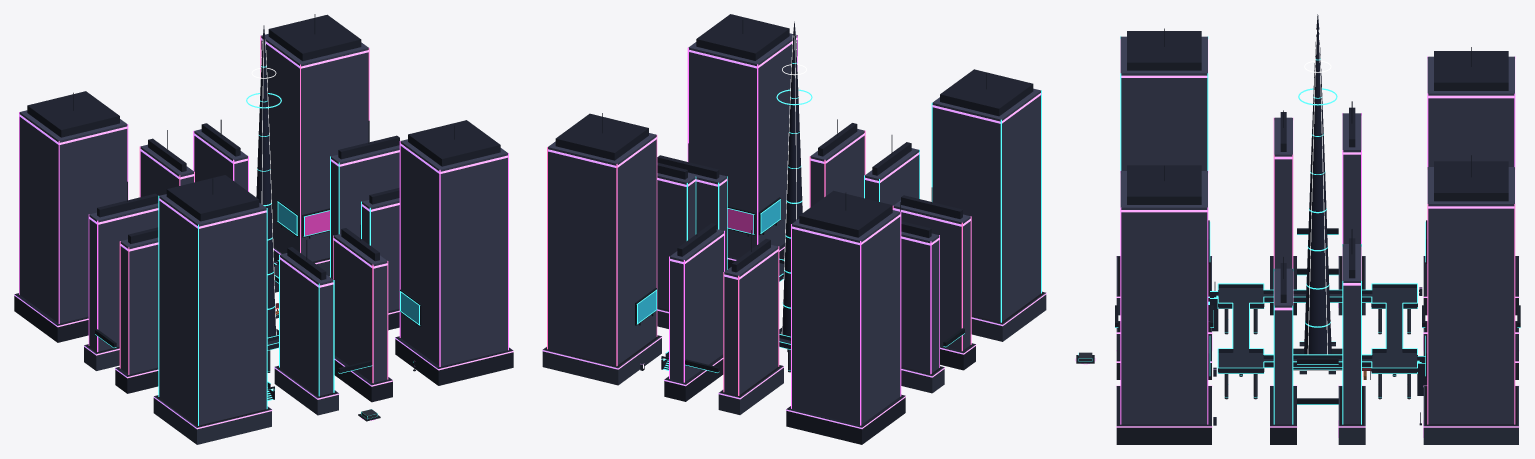
3 views of the same model, side by side, from view 1: azimuth 30°, elevation 25°; view 2: azimuth 150°, elevation 25°; view 3: azimuth 270°, elevation 25° (orthographic). The views are drawn at different scales.
Parts seen in each view (by area): view 1: district_city_cero.lod1; view 2: district_city_cero.lod1; view 3: district_city_cero.lod1.
Boxes of the visible parts, x1,y1,x2,y2 form: district_city_cero.lod1: (14, 14, 513, 444); district_city_cero.lod1: (542, 14, 1046, 444); district_city_cero.lod1: (1075, 14, 1520, 444).
Bounding box in the file's own units: 97.84 × 92.01 × 107.
